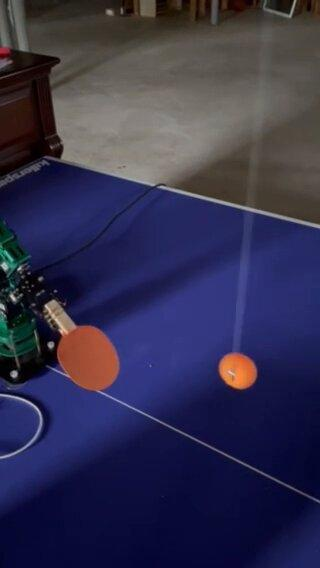oball: (219, 352, 255, 387)
